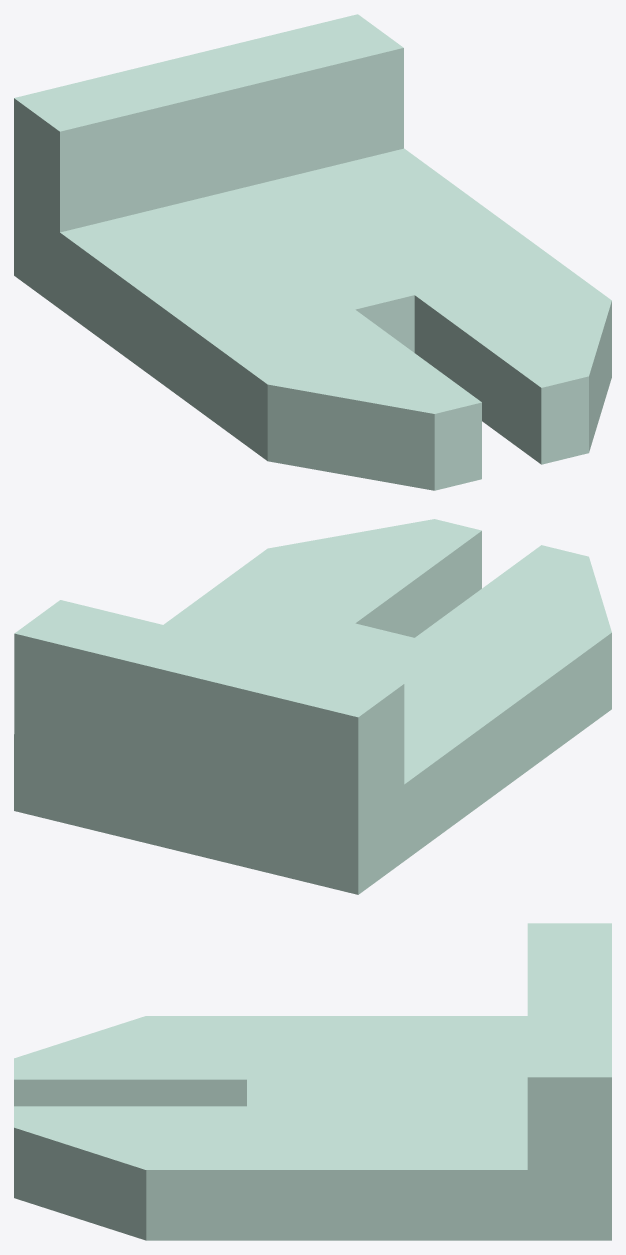
3 views of the same model, one above another, from view 1: azimuth 30°, elevation 25°; view 2: azimuth 150°, elevation 25°; view 3: azimuth 270°, elevation 25° (orthographic). The views are drawn at different scales.
Parts seen in each view (by area): view 1: Renderer Node; view 2: Renderer Node; view 3: Renderer Node.
Part boxes in pixels (x1,y1,x2,y2): Renderer Node: (14,14,611,490); Renderer Node: (14,519,611,894); Renderer Node: (14,923,611,1240).
Bounding box in the file's own units: 0.5867 × 0.2891 × 0.9609.
